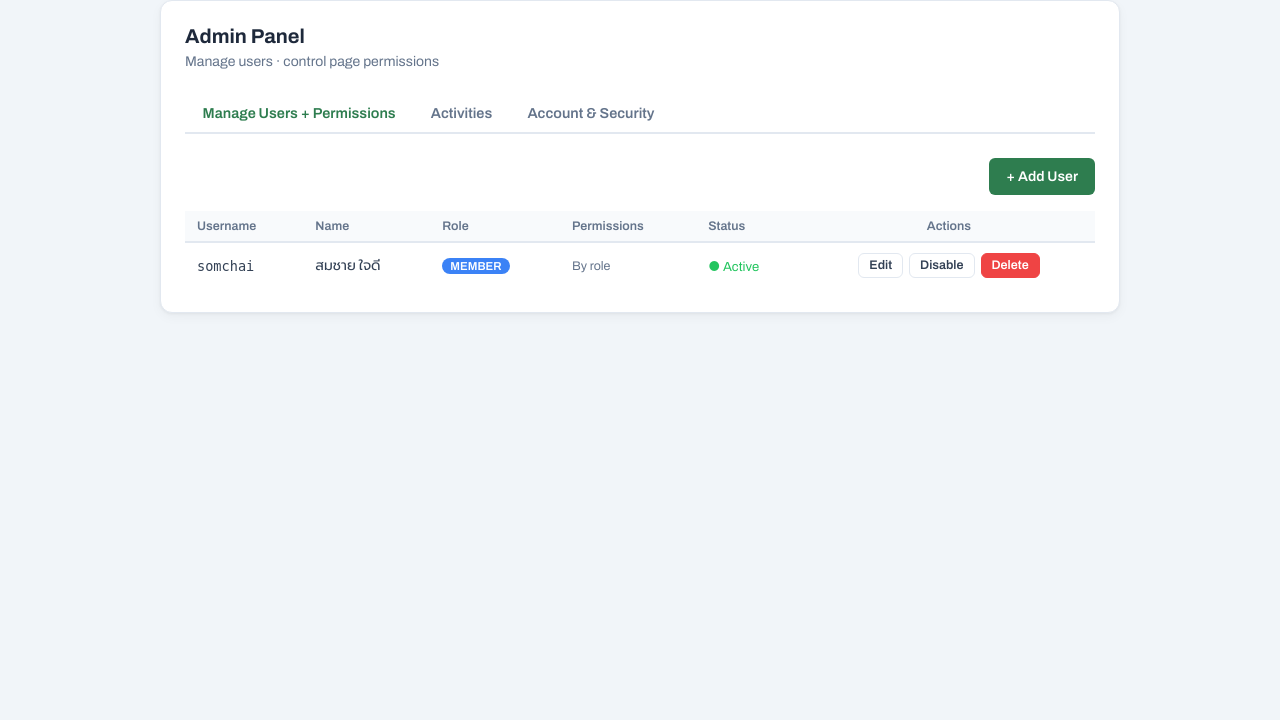
Test case: AdminPanelPage › กดปุ่ม "+ เพิ่มผู้ใช้" → ฟอร์มสร้างผู้ใช้โผล่
Expected: the text "Add New User" is not shown
Click the button "+ Add User". click: (1042, 177)
box: top-left (989, 158), bottom-right (1095, 195)
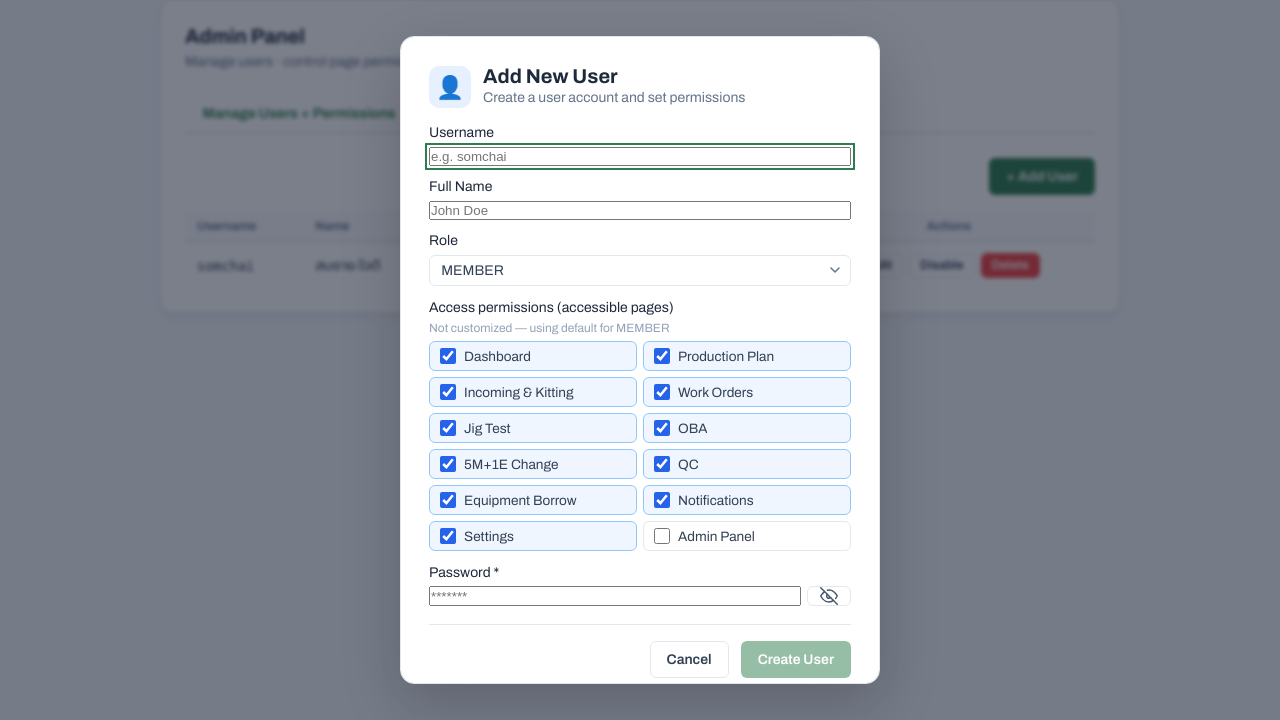
Expected: the heading "Add New User" is shown, top-left (483, 65), bottom-right (618, 87)
Expected: the field with placeholder "e.g. somchai" is shown, top-left (429, 147), bottom-right (851, 166)
